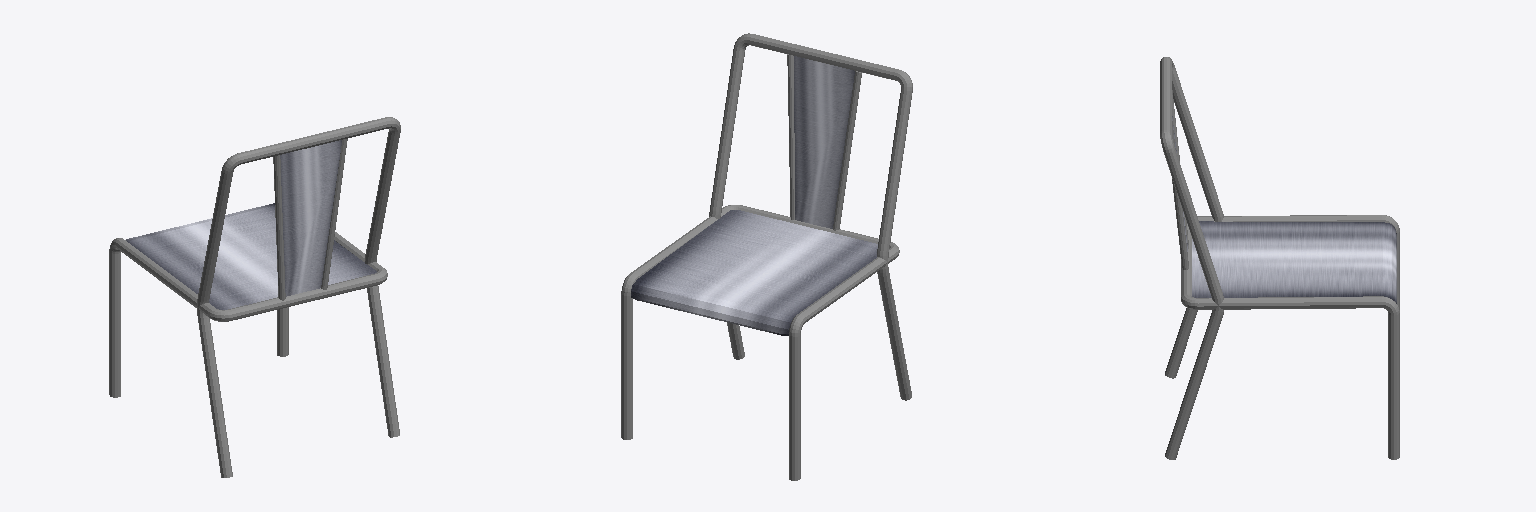
3 renders of one model, left to right at view 1: azimuth 30°, elevation 25°; view 2: azimuth 150°, elevation 25°; view 3: azimuth 270°, elevation 25°, orthographic.
Parts seen in each view (by area): view 1: Line003, Box001, Box002, Line005, Line004; view 2: Box001, Line003, Box002, Line005, Line004; view 3: Box001, Line003, Line004.
Part boxes in pixels (left/top/right/bottom): Line003: left=109, top=117, right=400, bottom=477; Box001: left=126, top=203, right=376, bottom=309; Box002: left=280, top=140, right=341, bottom=296; Line005: left=273, top=155, right=285, bottom=300; Line004: left=321, top=139, right=347, bottom=289; Box001: left=631, top=210, right=877, bottom=335; Line003: left=621, top=33, right=912, bottom=480; Box002: left=794, top=56, right=854, bottom=228; Line005: left=833, top=71, right=861, bottom=230; Line004: left=787, top=54, right=794, bottom=219; Box001: left=1192, top=221, right=1396, bottom=303; Line003: left=1160, top=57, right=1399, bottom=459; Line004: left=1172, top=121, right=1188, bottom=269.
Size of the model in its own units: 16.87 by 29.39 by 19.7.
Materials: 1 (1 with a texture image).